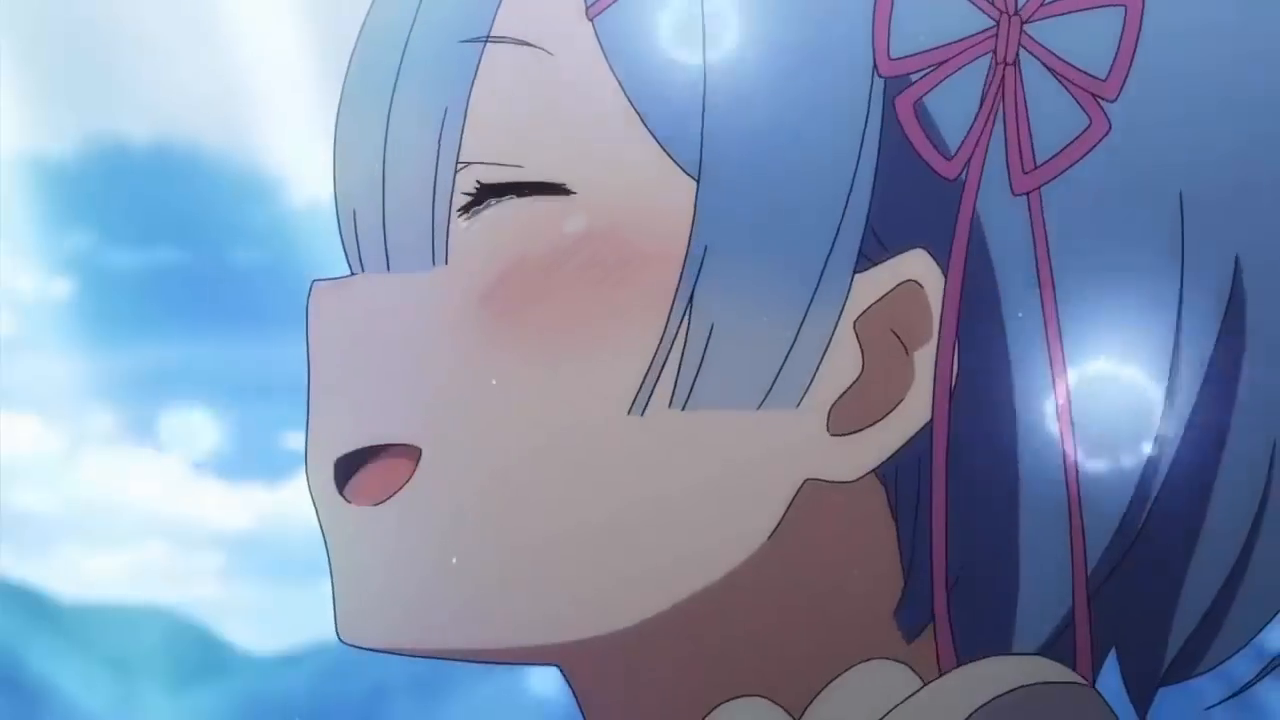REM: (302, 4, 1266, 680)
